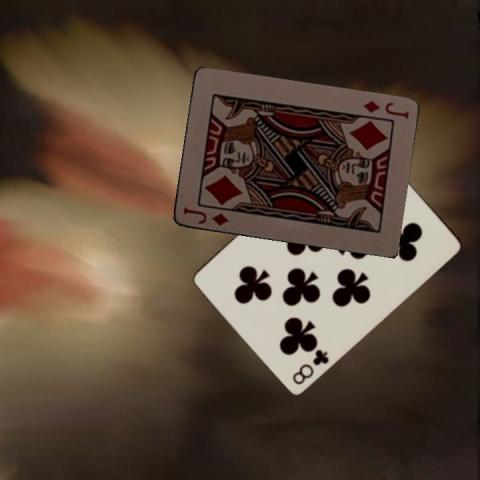8c: (289, 346, 331, 386)
Jd: (359, 97, 410, 121), (180, 204, 229, 227)
